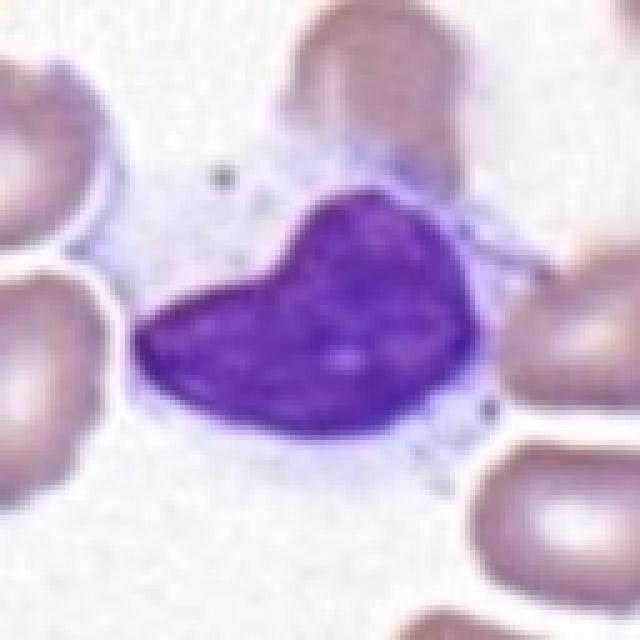lympho: (57, 51, 572, 494)
